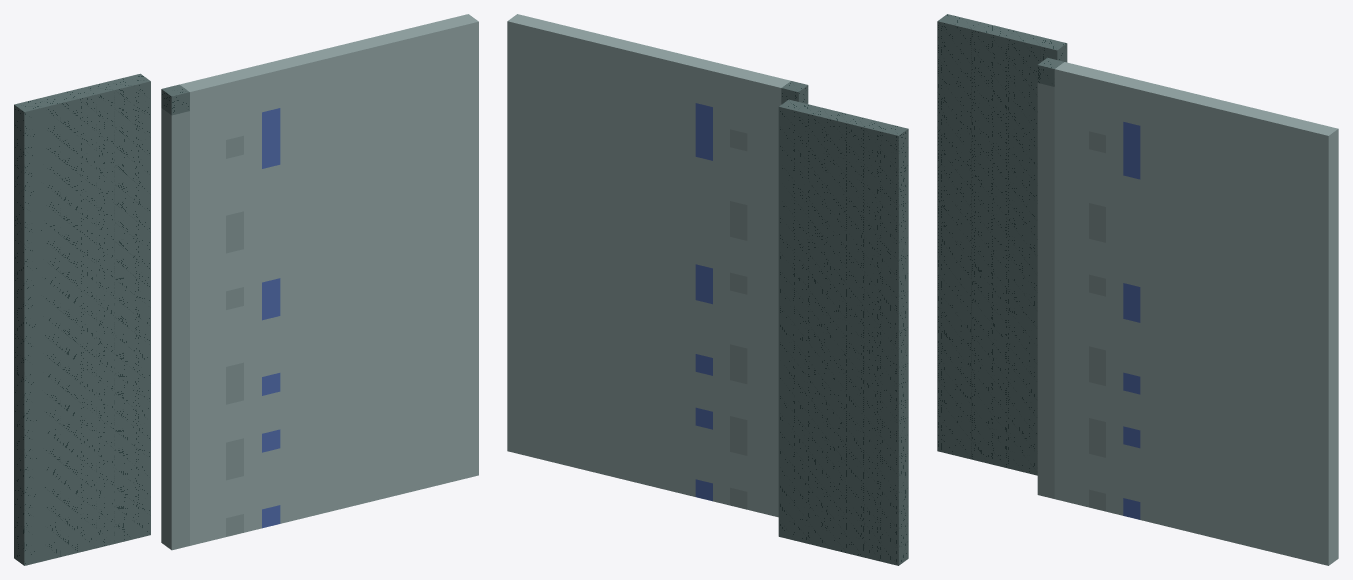
The picture shows the model from 3 angles, left to right: view 1: azimuth 30°, elevation 25°; view 2: azimuth 150°, elevation 25°; view 3: azimuth 330°, elevation 25°; orthographic projection. The views are drawn at different scales.
Size of the model in its own units: 2.4 by 2.4 by 0.3.
